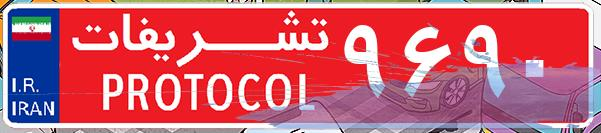0: (520, 20, 580, 115)
6: (400, 20, 460, 115)
9: (340, 20, 400, 115), (460, 20, 520, 115)
تشریفات: (60, 8, 340, 125)
